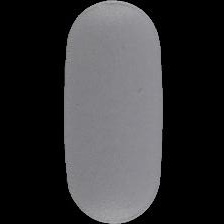62332-076: (0, 0, 224, 224)
